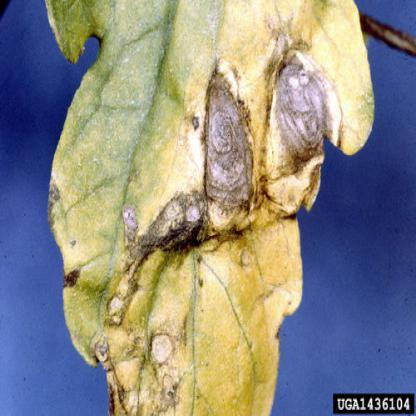Potato leaf early blight: (53, 41, 383, 415)
